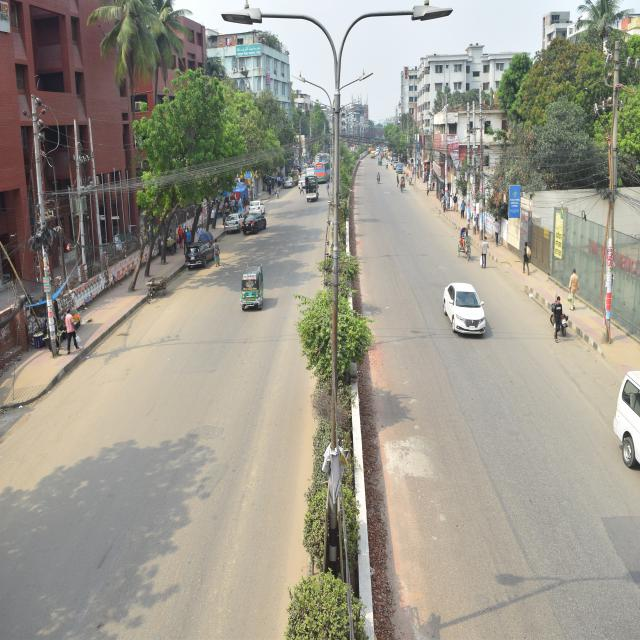bus: (310, 159, 333, 186)
car: (438, 285, 500, 333), (182, 244, 224, 272), (243, 194, 267, 209), (245, 210, 267, 222), (225, 218, 243, 227), (284, 178, 296, 185)
motorbike: (547, 296, 575, 342), (376, 171, 383, 181)
